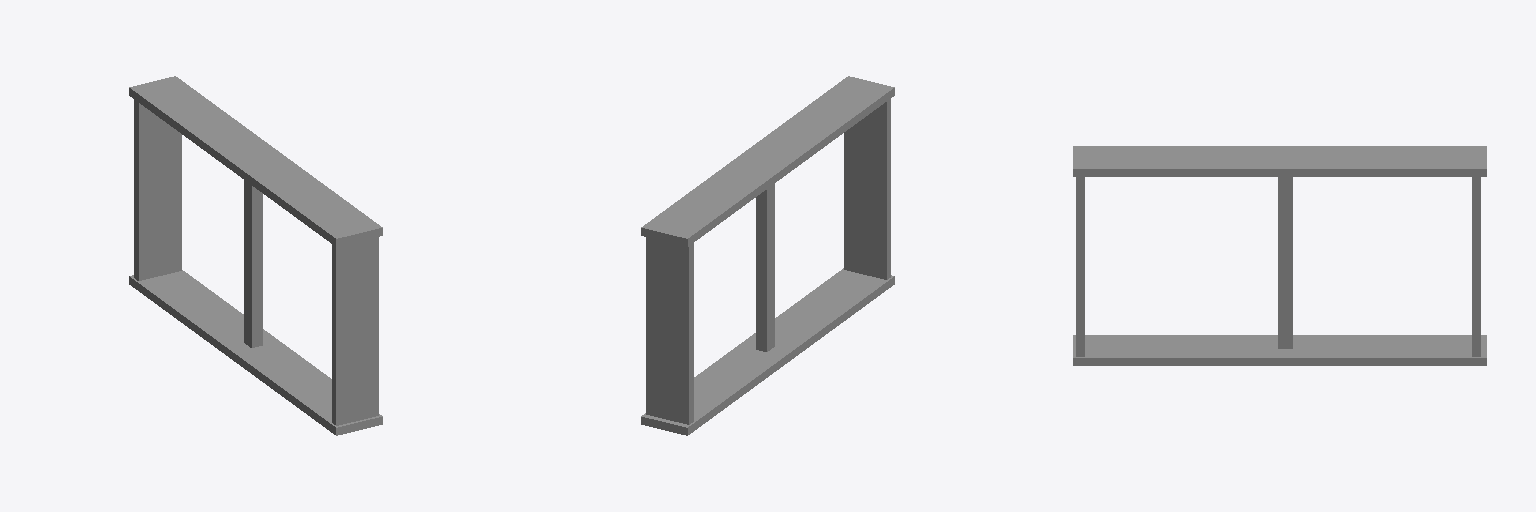
File: window_0.obj
3 views of the same model, side by side, from view 1: azimuth 30°, elevation 25°; view 2: azimuth 150°, elevation 25°; view 3: azimuth 270°, elevation 25° (orthographic).
Parts seen in each view (by area): view 1: Cube.005; view 2: Cube.005; view 3: Cube.005.
Part boxes in pixels (x1,y1,x2,y2): Cube.005: (129,76,382,435); Cube.005: (641,76,894,435); Cube.005: (1073,146,1486,365).
Size of the model in its own units: 0.4077 by 1.65 by 3.14.